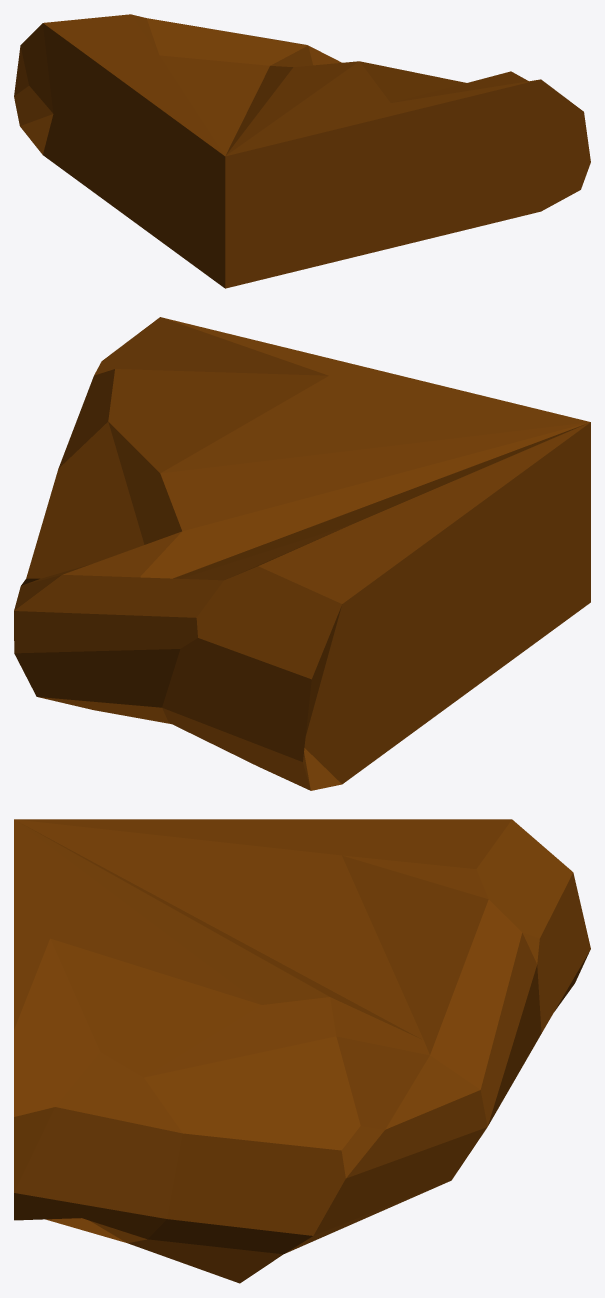
The model's file is DarkRockEdgeMediumExternalCurve2.fbx.
3 views of the same model, one above another, from view 1: azimuth 30°, elevation 25°; view 2: azimuth 150°, elevation 25°; view 3: azimuth 270°, elevation 25° (orthographic). The views are drawn at different scales.
Parts seen in each view (by area): view 1: DarkNaturalRockEdgeMediumExternalCurve_2; view 2: DarkNaturalRockEdgeMediumExternalCurve_2; view 3: DarkNaturalRockEdgeMediumExternalCurve_2.
Part boxes in pixels (x1,y1,x2,y2): DarkNaturalRockEdgeMediumExternalCurve_2: (14,14,590,288); DarkNaturalRockEdgeMediumExternalCurve_2: (14,317,590,790); DarkNaturalRockEdgeMediumExternalCurve_2: (14,819,590,1283).
Bounding box in the file's own units: 579 × 307 × 579.
1 material, 1 textured.
